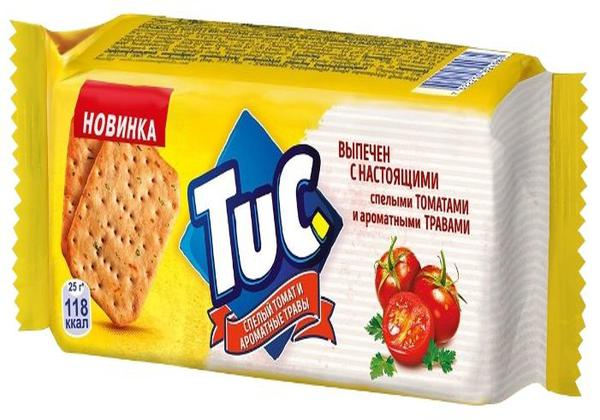crackers tuc: (42, 30, 524, 404)
